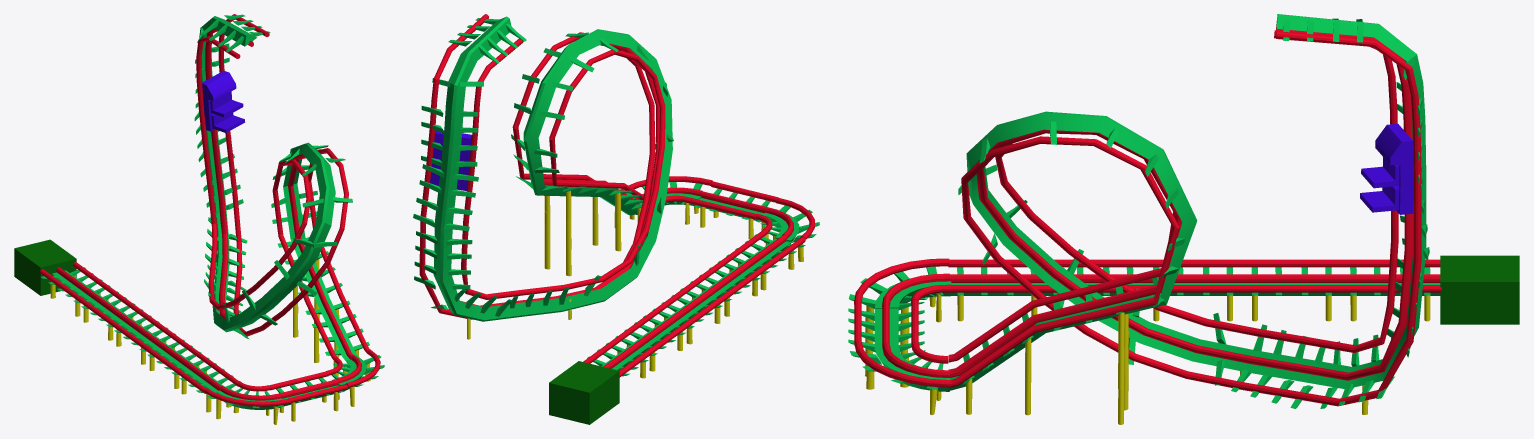
The model's file is UpsideDown_01.fbx.
3 views of the same model, side by side, from view 1: azimuth 30°, elevation 25°; view 2: azimuth 150°, elevation 25°; view 3: azimuth 270°, elevation 25° (orthographic). The views are drawn at different scales.
Visible parts, largest first — view 1: Railway_03:LowPolyCart_01:pCube2; view 2: Railway_03:LowPolyCart_01:pCube2; view 3: Railway_03:LowPolyCart_01:pCube2.
Boxes of the visible parts, x1,y1,x2,y2 form: Railway_03:LowPolyCart_01:pCube2: [14, 14, 384, 424]; Railway_03:LowPolyCart_01:pCube2: [413, 14, 819, 424]; Railway_03:LowPolyCart_01:pCube2: [848, 14, 1519, 424].
Bounding box in the file's own units: 9.77 × 12.62 × 19.29.
